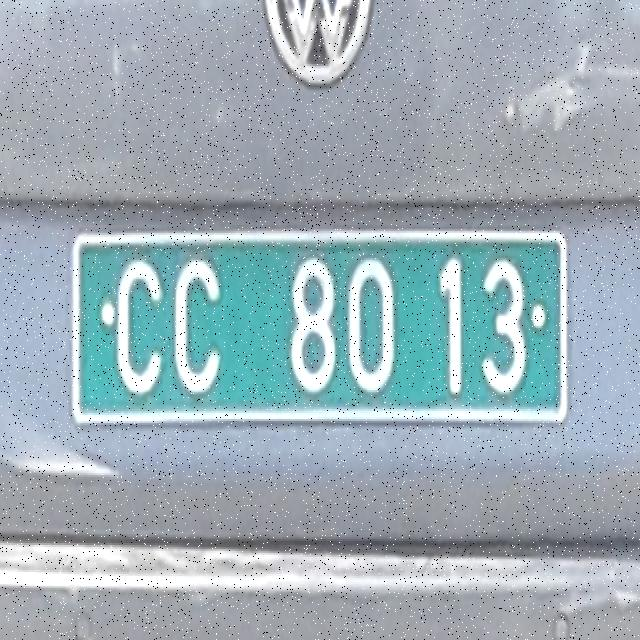licenseplate: (72, 232, 569, 425)
